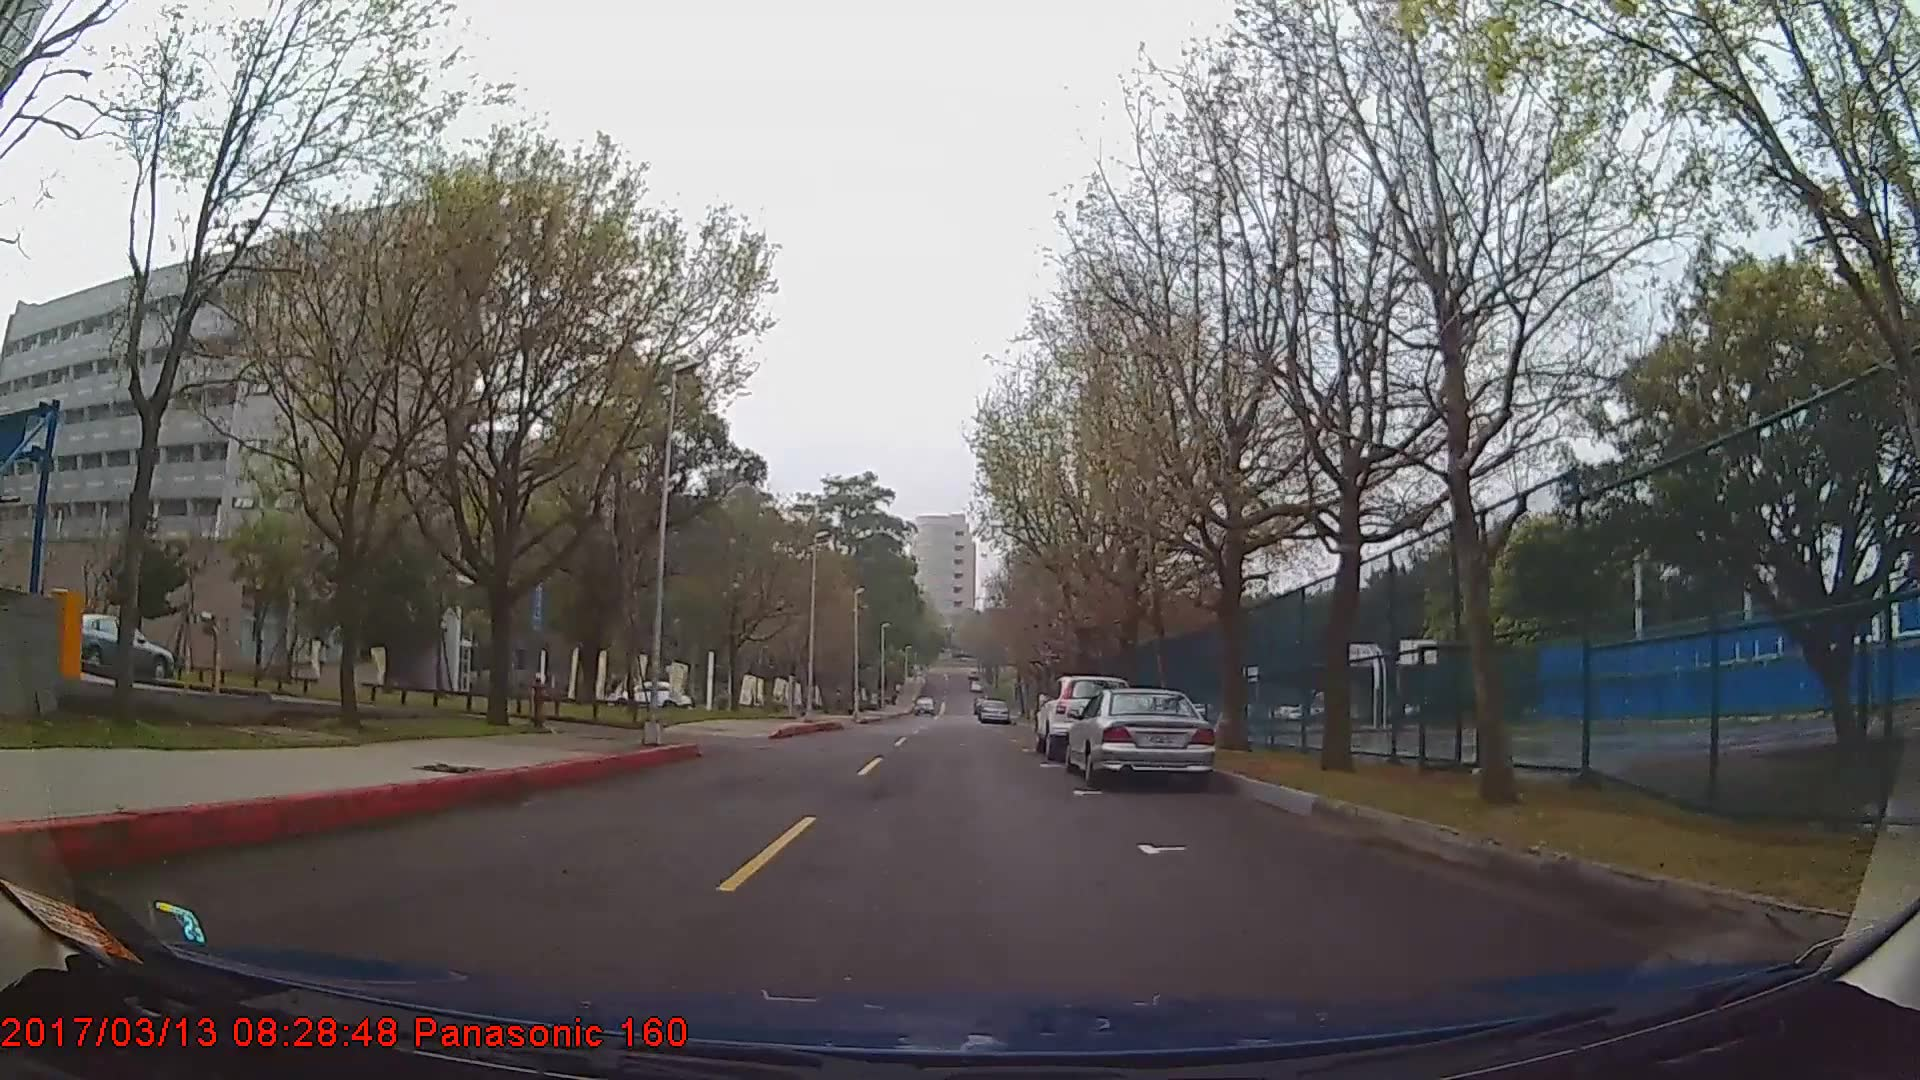vehicle: (1063, 684, 1216, 786), (50, 613, 171, 684), (1033, 674, 1129, 760), (611, 676, 692, 708), (976, 698, 1007, 727)
